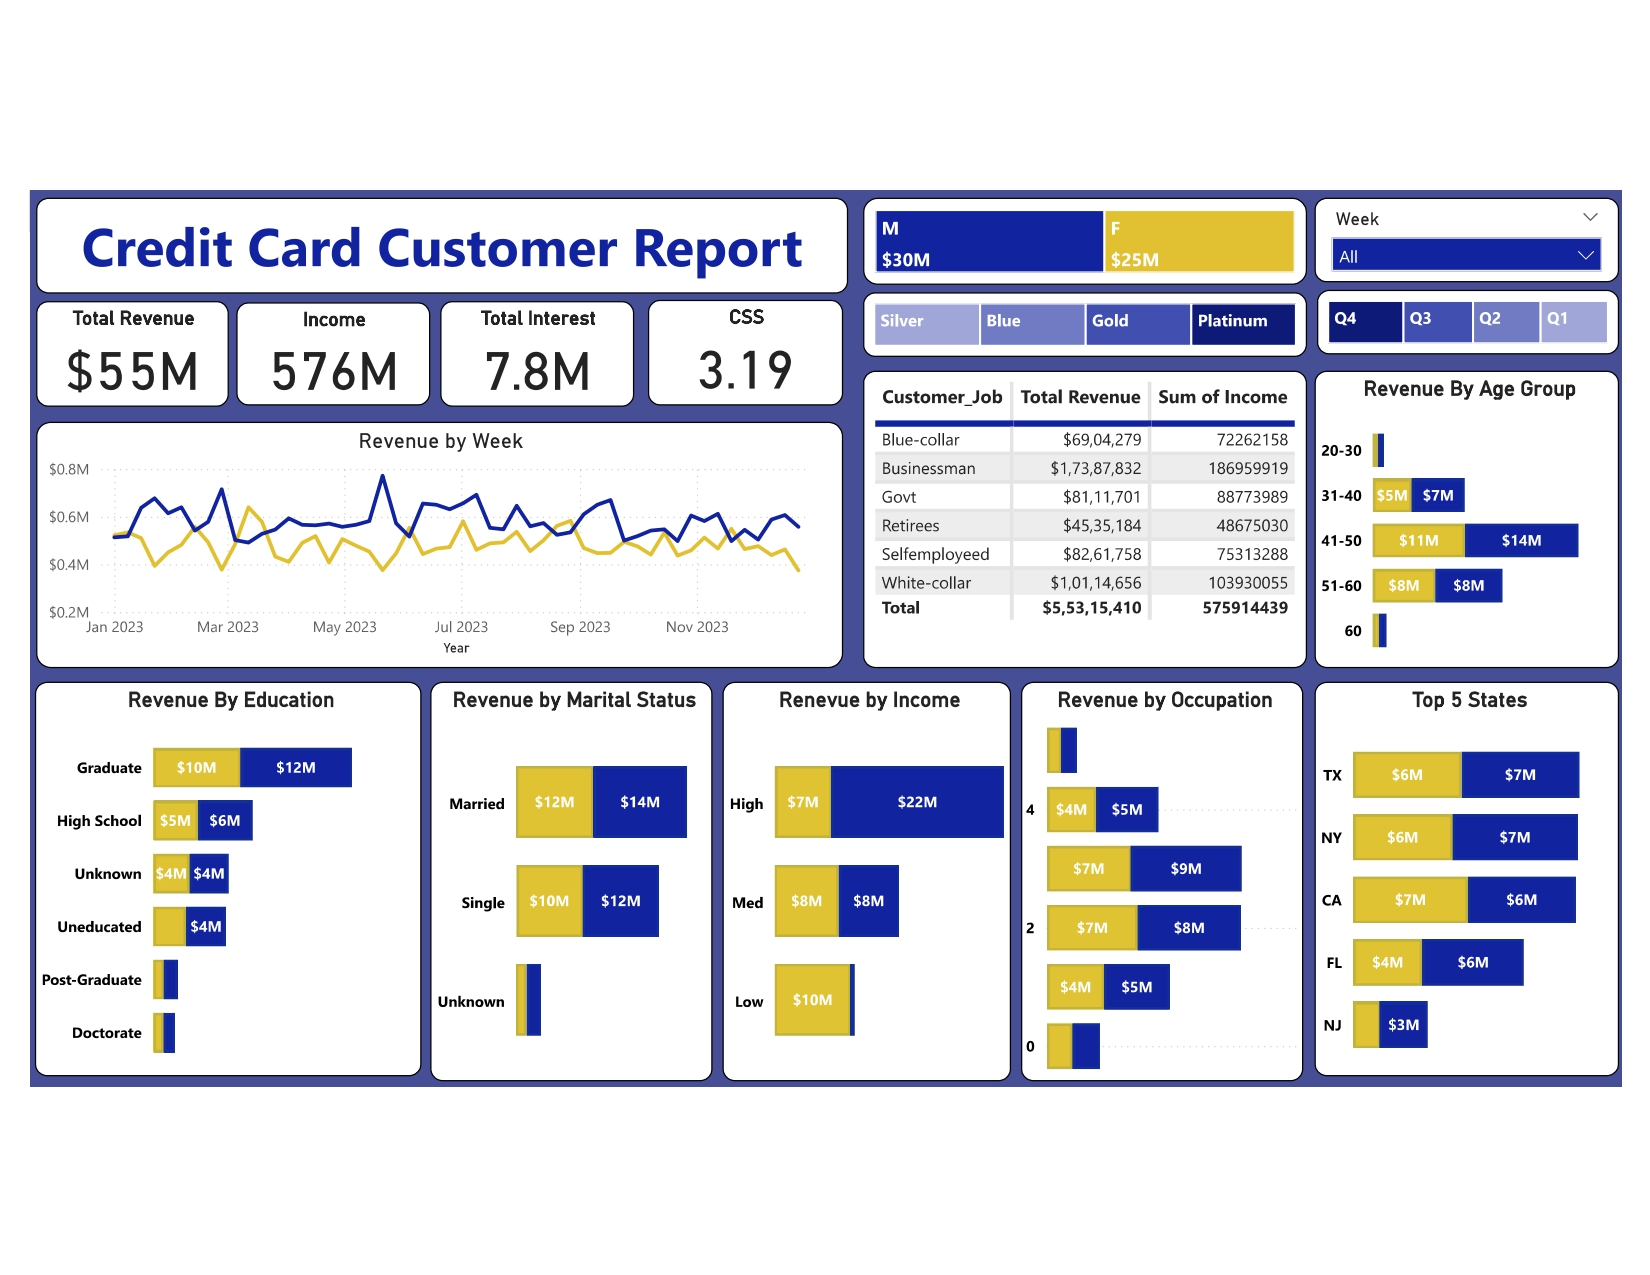

The dashboard page shown, as its layout file describes it:
{"tool":"powerbi","page":{"name":"CC Customer","canvas":[1280,720],"ordinal":1},"visuals":[{"type":"textbox","box":[4.8,5.9,653.2,77.3],"z":0},{"type":"barChart","title":"Renevue by Income","fields":{"Y":["Sum(credit_card1.Revenue)"],"Category":["customer1.Income_Group"],"Series":["customer1.Gender"]},"box":[556.6,395.2,232.7,320.6],"z":1000},{"type":"tableEx","fields":{"Values":["customer1.Customer_Job","Sum(credit_card1.Revenue)","Sum(customer1.Income)"]},"box":[669.6,144.8,357.1,238.9],"z":2000},{"type":"card","title":"Total Revenue","fields":{"Values":["Sum(credit_card1.Revenue)"]},"box":[4.8,89.3,155.6,84.5],"z":3000},{"type":"card","title":"Income","fields":{"Values":["Sum(customer1.Income)"]},"box":[166.3,89.5,155.8,83.7],"z":4000},{"type":"card","title":"Total Interest","fields":{"Values":["Sum(credit_card1.Interest_Earned)"]},"box":[329.5,89.1,157,84.6],"z":5000},{"type":"card","title":"CSS","fields":{"Values":["Avg(customer1.Cust_Satisfaction_Score)"]},"box":[497.1,88.1,156.8,84.5],"z":6000},{"type":"slicer","fields":{"Values":["credit_card1.Week_Start_Date"]},"box":[1032.7,6,244.9,67.6],"z":7000},{"type":"treemap","fields":{"Group":["credit_card1.Qtr"],"Values":["Avg(credit_card1.Client_Num)"]},"box":[1035.1,79.6,242.5,51.9],"z":8000},{"type":"treemap","fields":{"Group":["credit_card1.Card_Category"],"Values":["Avg(credit_card1.Client_Num)"]},"box":[669.6,82,357.1,51.9],"z":9000},{"type":"lineChart","title":" Revenue by Week","fields":{"Y":["Sum(credit_card1.Revenue)"],"Series":["customer1.Gender"],"Category":["credit_card1.Week_Start_Date.Variation.Date Hierarchy.Year","credit_card1.Week_Start_Date.Variation.Date Hierarchy.Month","credit_card1.Week_Start_Date.Variation.Date Hierarchy.Day"]},"box":[4.8,185.6,649.6,198.7],"z":10000},{"type":"treemap","fields":{"Group":["customer1.Gender"],"Values":["Sum(credit_card1.Revenue)"]},"box":[669.6,6,357.1,70],"z":11000},{"type":"barChart","title":"Revenue By Age Group","fields":{"Y":["Sum(credit_card1.Revenue)"],"Category":["customer1.Age_Group"],"Series":["customer1.Gender"]},"box":[1032.7,144.8,244.9,238.9],"z":12000},{"type":"barChart","title":"Revenue by Occupation","fields":{"Y":["Sum(credit_card1.Revenue)"],"Category":["customer1.Dependent_Count"],"Series":["customer1.Gender"]},"box":[797,395.2,227.1,320.6],"z":13000},{"type":"barChart","title":"Top 5 States","fields":{"Y":["Sum(credit_card1.Revenue)"],"Category":["customer1.state_cd"],"Series":["customer1.Gender"]},"box":[1033,395.2,244.9,317.3],"z":14000},{"type":"barChart","title":"Revenue by Marital Status","fields":{"Y":["Sum(credit_card1.Revenue)"],"Category":["customer1.Marital_Status"],"Series":["customer1.Gender"]},"box":[321.7,395.2,227.1,320.6],"z":15000},{"type":"barChart","title":"Revenue By Education","fields":{"Y":["Sum(credit_card1.Revenue)"],"Category":["customer1.Education_Level"],"Series":["customer1.Gender"]},"box":[4.5,395.2,310.6,317.3],"z":16000}]}

Visuals, with their boxes on the page's 1280x720 design canvas (x1, y1, x2, y2). These are canvas units, not pixel positions in the 1650x1275 screenshot, which may show the page scaled, cropped or inside an application window:
textbox: l=5, t=6, r=658, b=83
"Renevue by Income" barChart: l=557, t=395, r=789, b=716
tableEx - customer1.Customer_Job x Sum(credit_card1.Revenue): l=670, t=145, r=1027, b=384
"Total Revenue" card: l=5, t=89, r=160, b=174
"Income" card: l=166, t=90, r=322, b=173
"Total Interest" card: l=330, t=89, r=486, b=174
"CSS" card: l=497, t=88, r=654, b=173
slicer - credit_card1.Week_Start_Date: l=1033, t=6, r=1278, b=74
treemap - credit_card1.Qtr x Avg(credit_card1.Client_Num): l=1035, t=80, r=1278, b=132
treemap - credit_card1.Card_Category x Avg(credit_card1.Client_Num): l=670, t=82, r=1027, b=134
" Revenue by Week" lineChart: l=5, t=186, r=654, b=384
treemap - customer1.Gender x Sum(credit_card1.Revenue): l=670, t=6, r=1027, b=76
"Revenue By Age Group" barChart: l=1033, t=145, r=1278, b=384
"Revenue by Occupation" barChart: l=797, t=395, r=1024, b=716
"Top 5 States" barChart: l=1033, t=395, r=1278, b=712
"Revenue by Marital Status" barChart: l=322, t=395, r=549, b=716
"Revenue By Education" barChart: l=4, t=395, r=315, b=712
